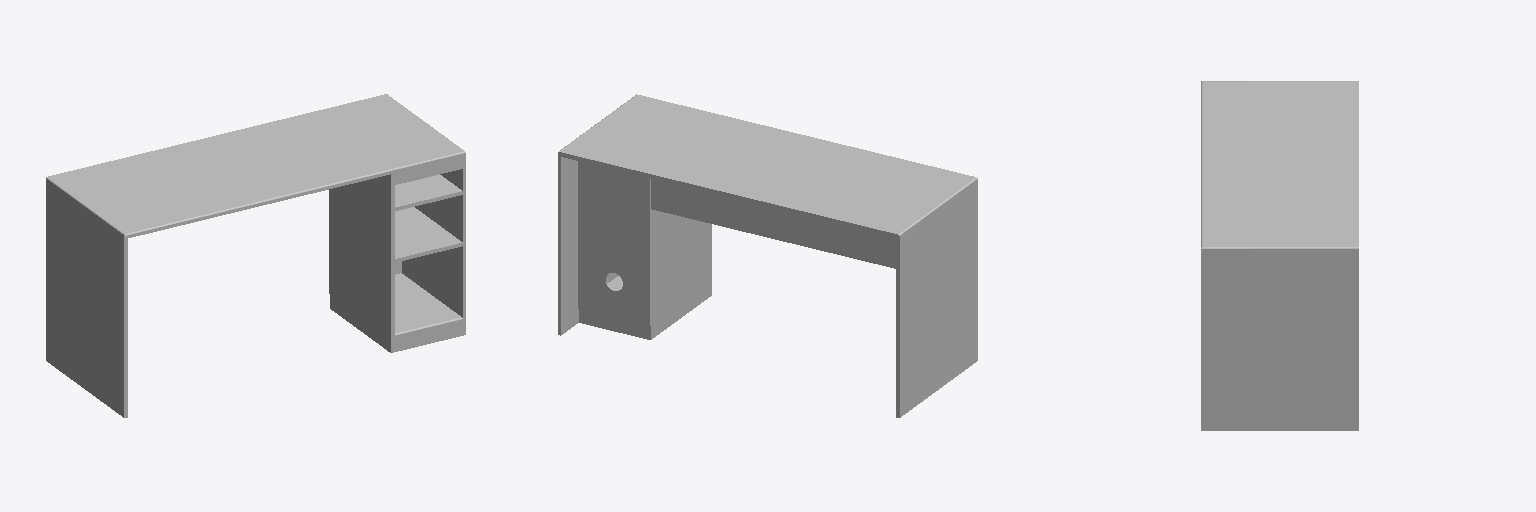
Rendered from desk.obj.
3 views of the same model, side by side, from view 1: azimuth 30°, elevation 25°; view 2: azimuth 150°, elevation 25°; view 3: azimuth 270°, elevation 25° (orthographic).
Parts seen in each view (by area): view 1: surface, leg, leg_middle, shelf-2, shelf-3, front_bottom, front_top; view 2: surface, leg, back, beam, leg_middle, back_bottom; view 3: leg, surface.
Part boxes in pixels (left/top/right/bottom): surface: left=46, top=94, right=465, bottom=238; leg: left=46, top=156, right=465, bottom=417; leg_middle: left=330, top=174, right=394, bottom=352; shelf-2: left=395, top=174, right=462, bottom=262; shelf-3: left=395, top=273, right=459, bottom=331; front_bottom: left=395, top=316, right=462, bottom=351; front_top: left=395, top=157, right=462, bottom=184; surface: left=558, top=94, right=977, bottom=238; leg: left=558, top=156, right=977, bottom=417; back: left=578, top=161, right=650, bottom=325; beam: left=651, top=179, right=895, bottom=268; leg_middle: left=647, top=209, right=711, bottom=339; back_bottom: left=579, top=309, right=646, bottom=338; leg: left=1201, top=252, right=1358, bottom=430; surface: left=1201, top=81, right=1358, bottom=251.
Size of the model in its own units: 1524 by 781 by 610.